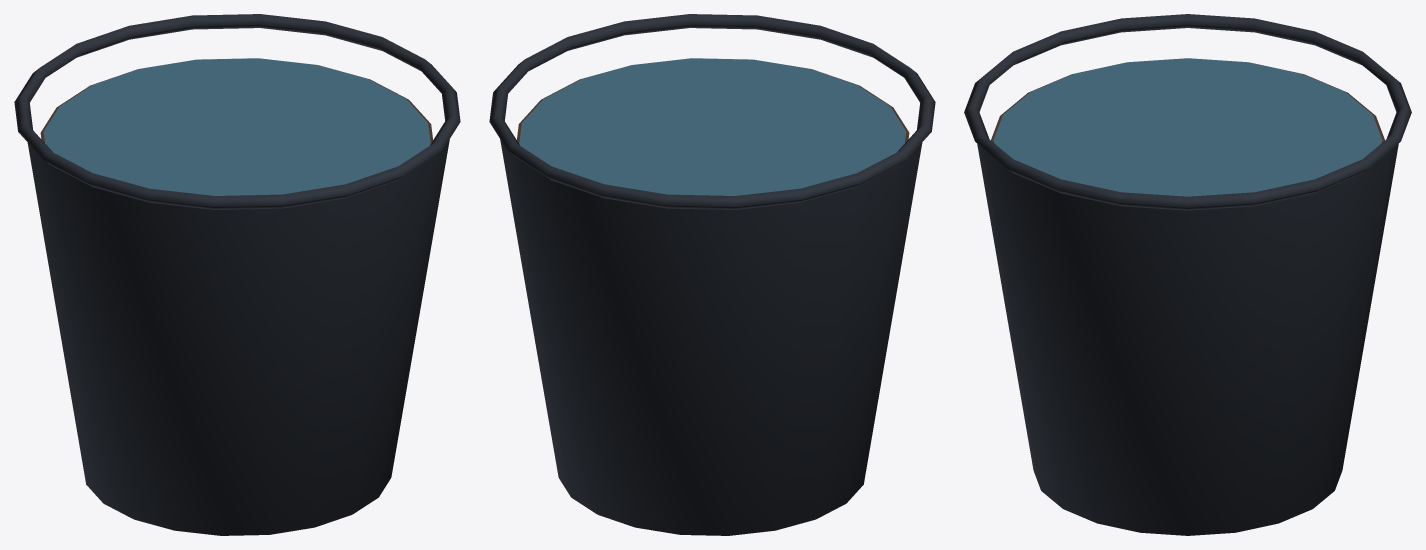
Rendered from vessel--plastic_taper_15l.glb.
3 views of the same model, side by side, from view 1: azimuth 30°, elevation 25°; view 2: azimuth 150°, elevation 25°; view 3: azimuth 270°, elevation 25° (orthographic).
Visible parts, largest first — view 1: pot_body, soil_surface, soil_wet, pot_rim; view 2: pot_body, soil_surface, soil_wet, pot_rim; view 3: pot_body, soil_surface, soil_wet, pot_rim.
Part boxes in pixels (left/top/right/bottom): pot_body: left=27, top=139, right=449, bottom=535; soil_surface: left=40, top=58, right=432, bottom=195; soil_wet: left=43, top=58, right=430, bottom=195; pot_rim: left=14, top=14, right=460, bottom=209; pot_body: left=500, top=139, right=922, bottom=535; soil_surface: left=517, top=58, right=909, bottom=195; soil_wet: left=519, top=58, right=906, bottom=195; pot_rim: left=489, top=14, right=935, bottom=209; pot_body: left=977, top=143, right=1398, bottom=535; soil_surface: left=991, top=58, right=1384, bottom=196; soil_wet: left=993, top=58, right=1382, bottom=196; pot_rim: left=964, top=14, right=1411, bottom=210.
Bounding box in the file's own units: 0.29 × 0.263 × 0.29.
